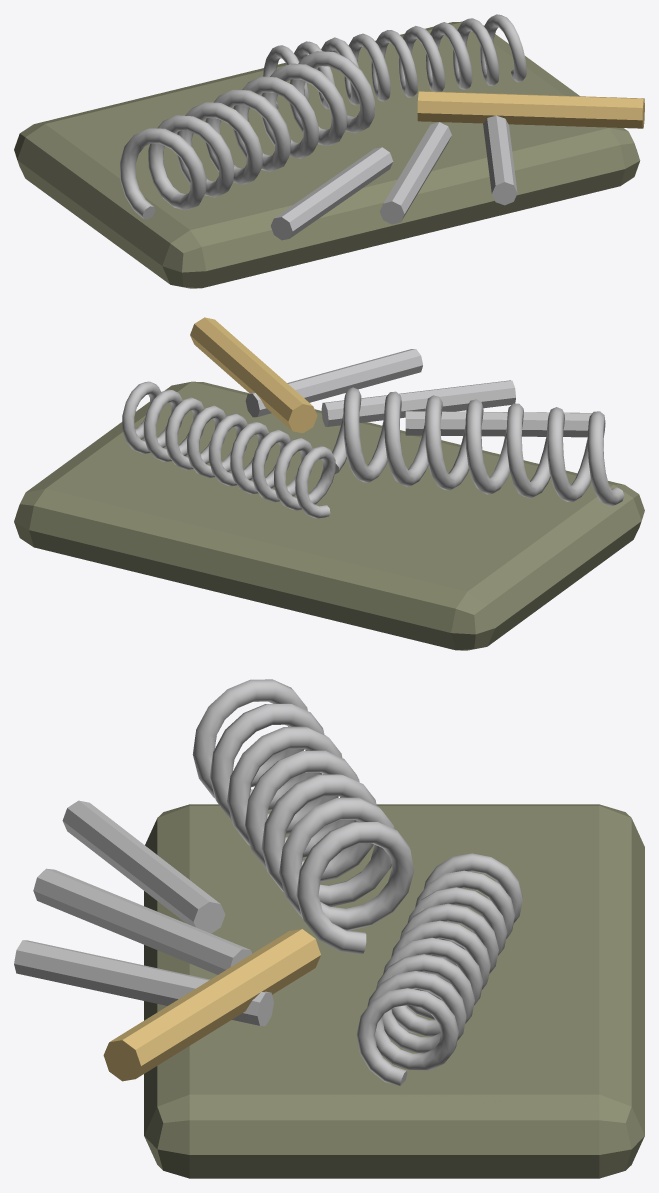
File: Item_weapon_parts.fbx
3 views of the same model, one above another, from view 1: azimuth 30°, elevation 25°; view 2: azimuth 150°, elevation 25°; view 3: azimuth 270°, elevation 25° (orthographic). The views are drawn at different scales.
Parts seen in each view (by area): view 1: model.013; view 2: model.013; view 3: model.013.
Part boxes in pixels (x1,y1,x2,y2): model.013: (14, 14, 644, 288); model.013: (14, 317, 644, 650); model.013: (14, 679, 644, 1178).
Bounding box in the file's own units: 0.1714 × 0.0495 × 0.1386.
